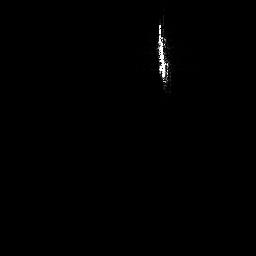ship: (156, 16, 170, 92)
